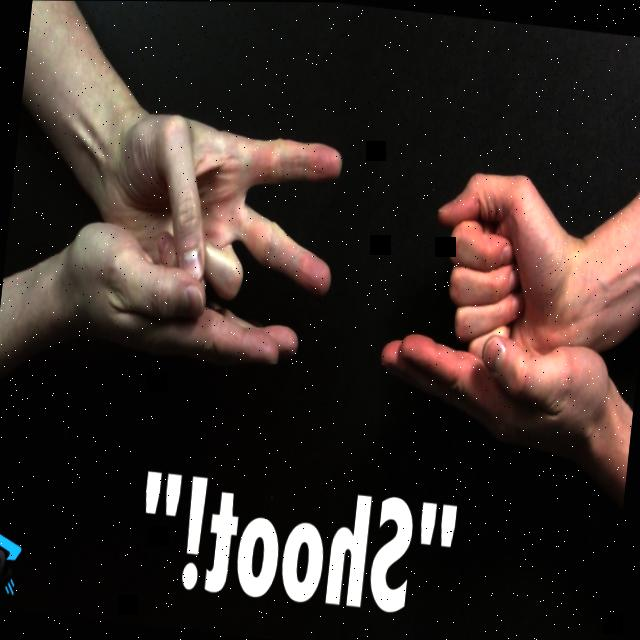Rock: (421, 162, 595, 369)
Scissors: (96, 103, 347, 324)
